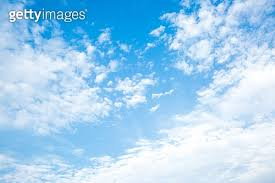sky: (3, 22, 275, 182)
